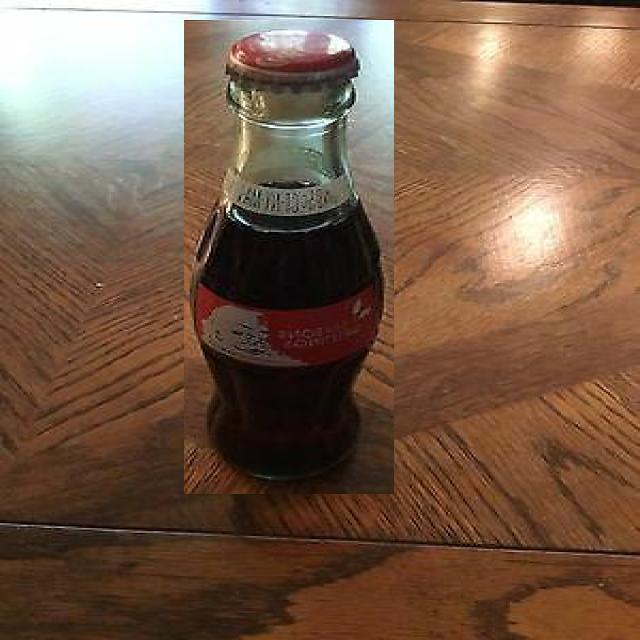coca-cola: (184, 20, 394, 494)
